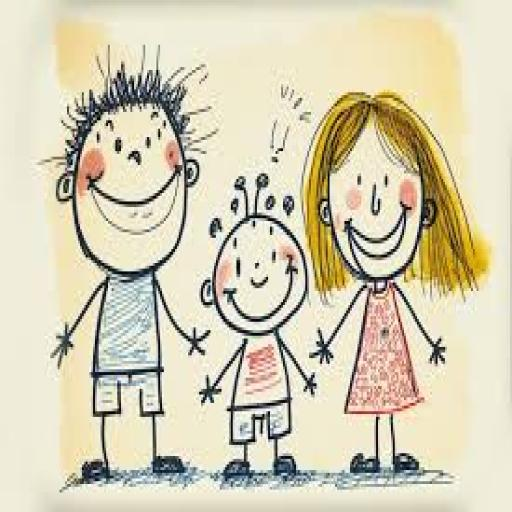person: (297, 64, 480, 481), (40, 31, 212, 472), (196, 170, 318, 478)
